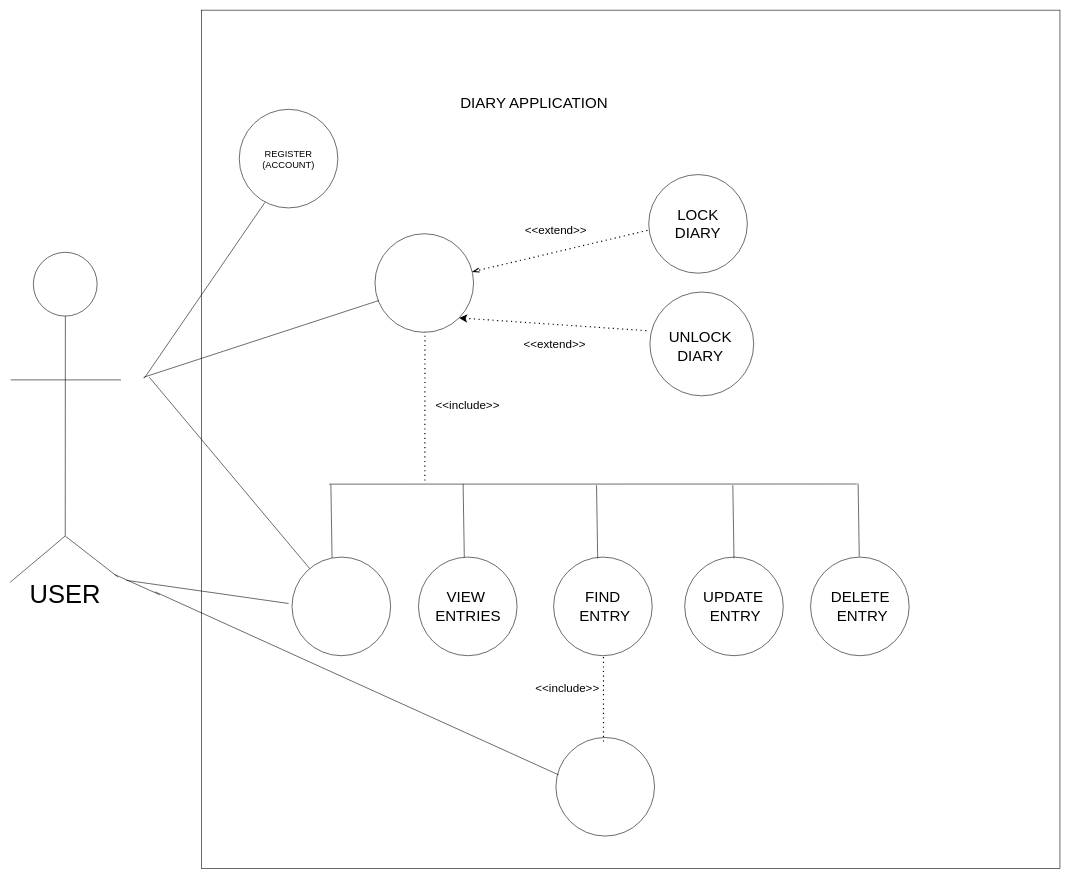
This 1070x879 diagram has some shape labels left out. The shapes that lost their labels are listed below. From the top down, each one's box as (x1, y1, x2, y2) in pixels, then its label:
(374, 233, 474, 332): LOGIN
(291, 557, 391, 656): CREATE ENTRY
(555, 737, 655, 836): DELETE ACCOUNT
